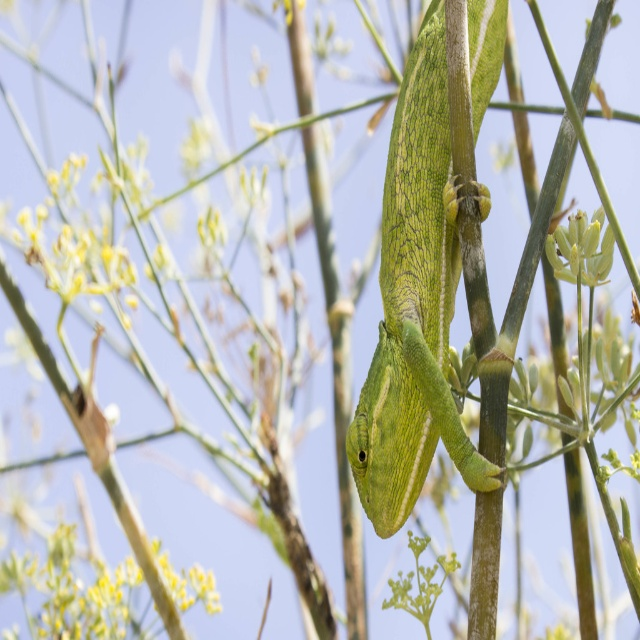Lizard: (348, 0, 506, 539)
